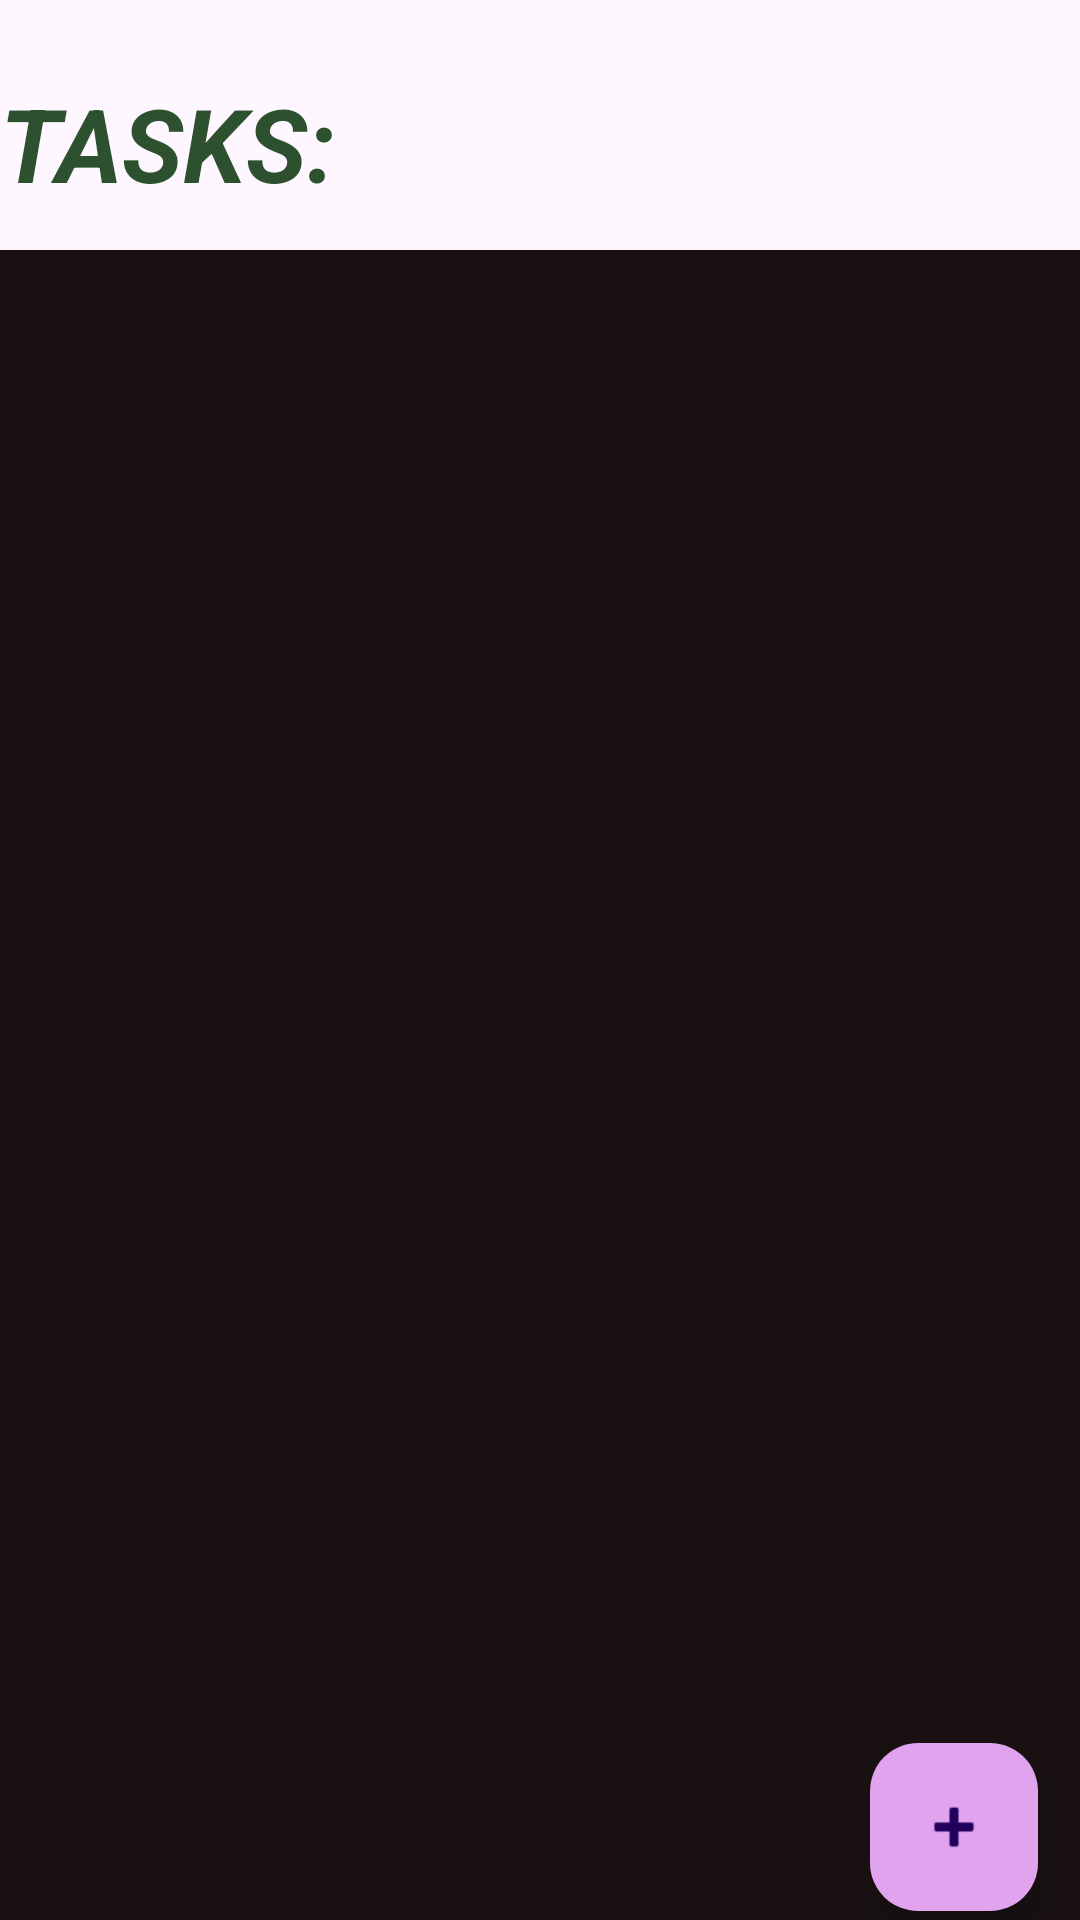

Screen size 1080×1920. Icon name, then its box in pixels as (x1, y1, x2, y2):
add: (870, 1743, 1038, 1911)
